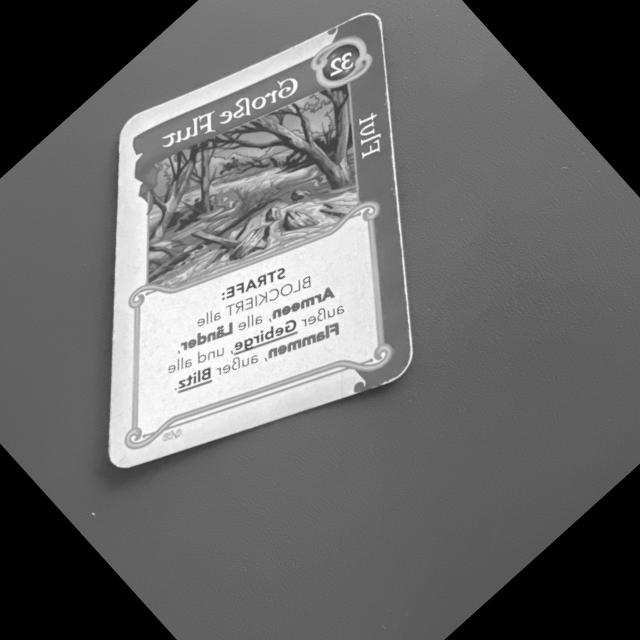Great Flood: (105, 2, 414, 477)
